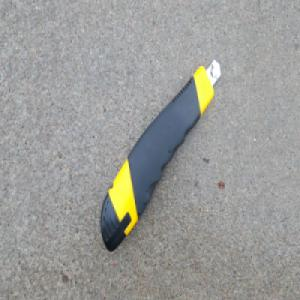Cutter: (98, 60, 220, 253)
